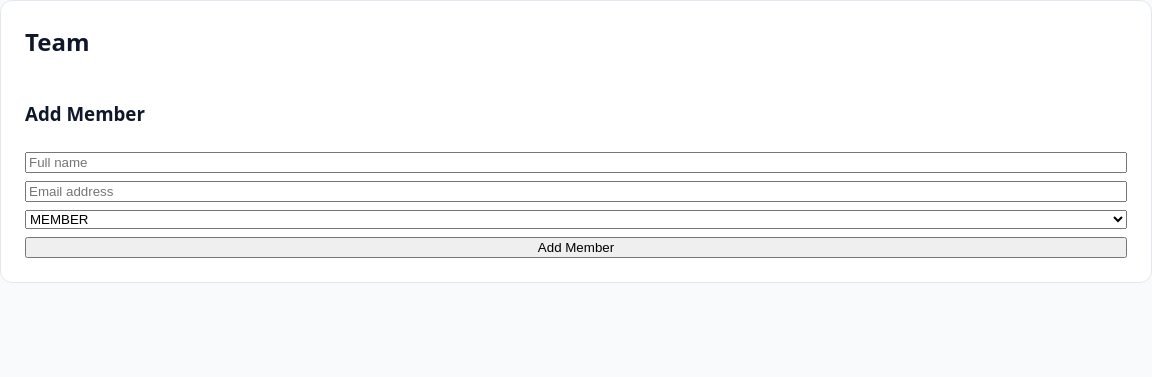
Test: role-based UI and pairing › submits name, email, and role to /api/v1/organization/members and displays temporary password
The image size is (1152, 377).
Type "Charlie" into the field with placeholder "Full name" at (576, 163), box [25, 152, 1127, 173]
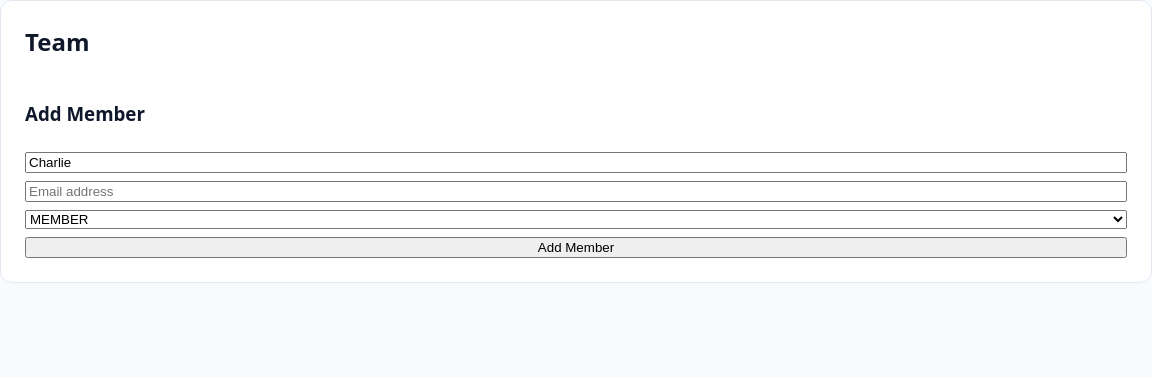
Type "charlie@example.com" into the field with placeholder "Email address" at (576, 192), box [25, 181, 1127, 202]
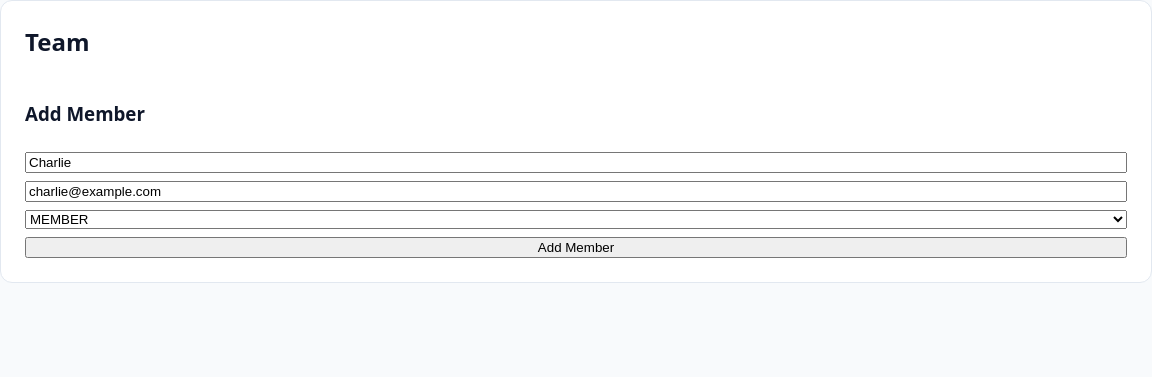
Click the button "Add Member" at (576, 248), box [25, 237, 1127, 258]
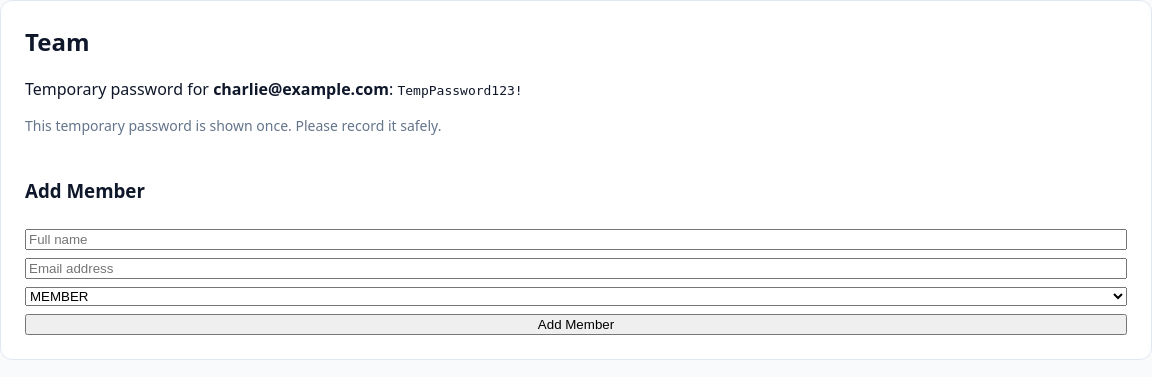
Check: the text "TempPassword123!" is shown, box [398, 83, 523, 98]
